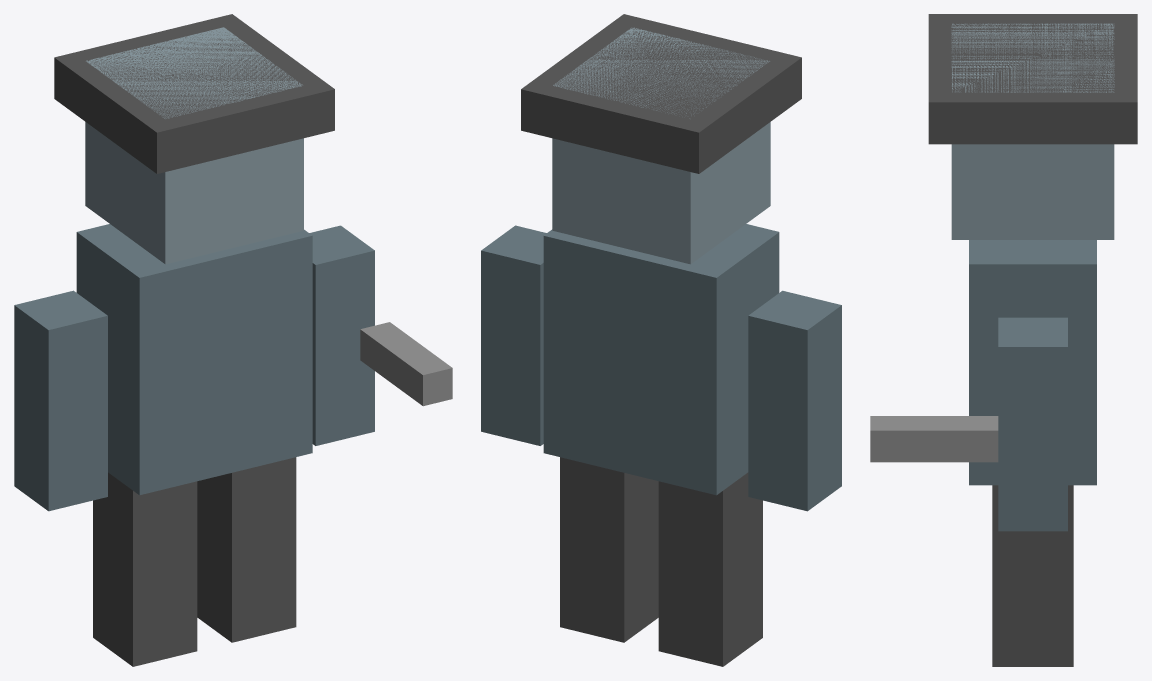
The model's file is rumi.glb.
3 renders of one model, left to right at view 1: azimuth 30°, elevation 25°; view 2: azimuth 150°, elevation 25°; view 3: azimuth 270°, elevation 25°, orthographic.
Visible parts, largest first — view 1: part_0, part_1, part_2, part_3, part_5, part_6, part_4, part_7; view 2: part_0, part_2, part_1, part_3, part_5, part_6, part_4; view 3: part_2, part_1, part_0, part_4, part_6, part_7.
Boxes of the visible parts, x1,y1,x2,y2 form: part_0: [76, 224, 312, 495]; part_1: [85, 27, 303, 264]; part_2: [54, 14, 334, 173]; part_3: [14, 290, 107, 511]; part_5: [93, 472, 197, 666]; part_6: [197, 457, 296, 642]; part_4: [309, 225, 374, 445]; part_7: [360, 322, 452, 406]; part_0: [543, 224, 779, 495]; part_2: [521, 14, 801, 173]; part_1: [552, 27, 770, 264]; part_3: [748, 290, 841, 511]; part_5: [658, 472, 762, 666]; part_6: [560, 457, 658, 642]; part_4: [481, 225, 546, 445]; part_2: [928, 14, 1137, 144]; part_1: [951, 23, 1114, 239]; part_0: [969, 240, 1096, 485]; part_4: [998, 317, 1067, 531]; part_6: [992, 485, 1073, 666]; part_7: [870, 416, 998, 462].
Size of the model in its own units: 0.69 by 1.08 by 0.46.
